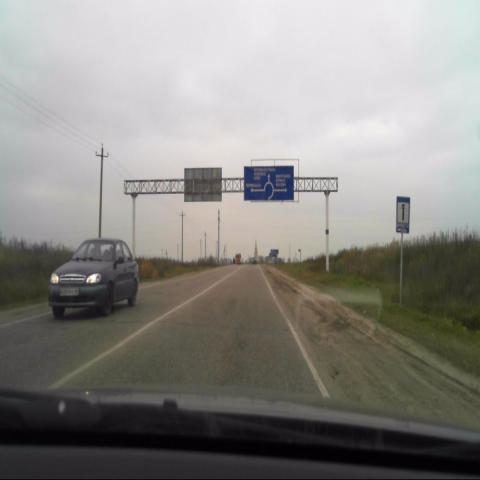7_4: (396, 198, 410, 236)
